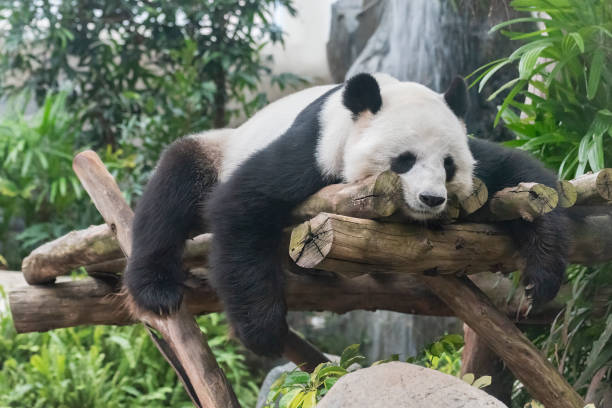panda: (316, 65, 476, 231)
